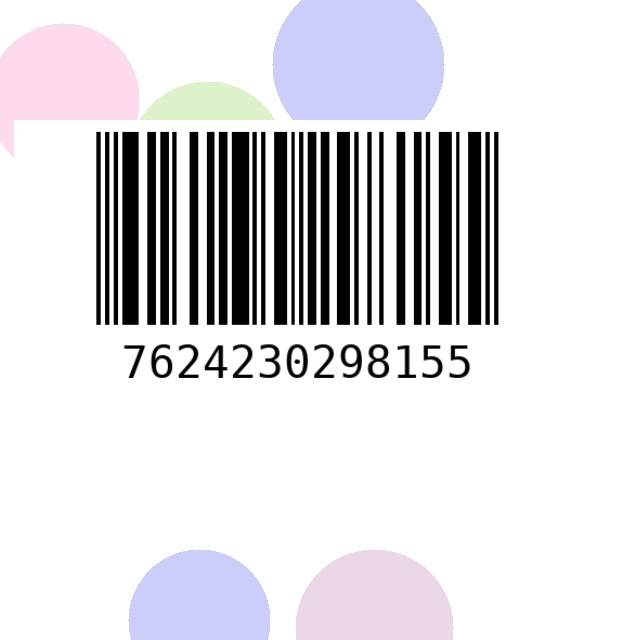barcode: (14, 120, 581, 423)
